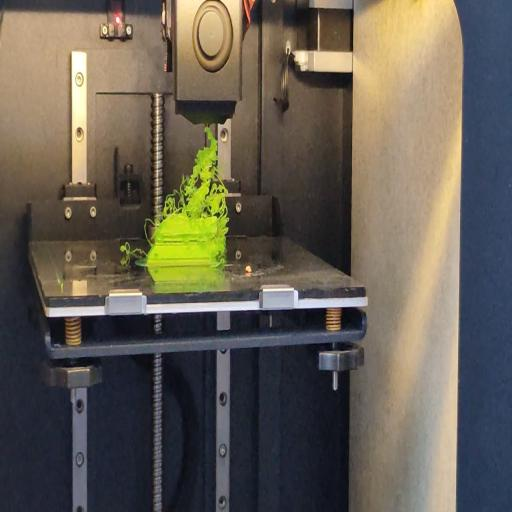spaghetti: (163, 130, 232, 216), (216, 216, 230, 268), (120, 242, 146, 260), (144, 215, 154, 241)
